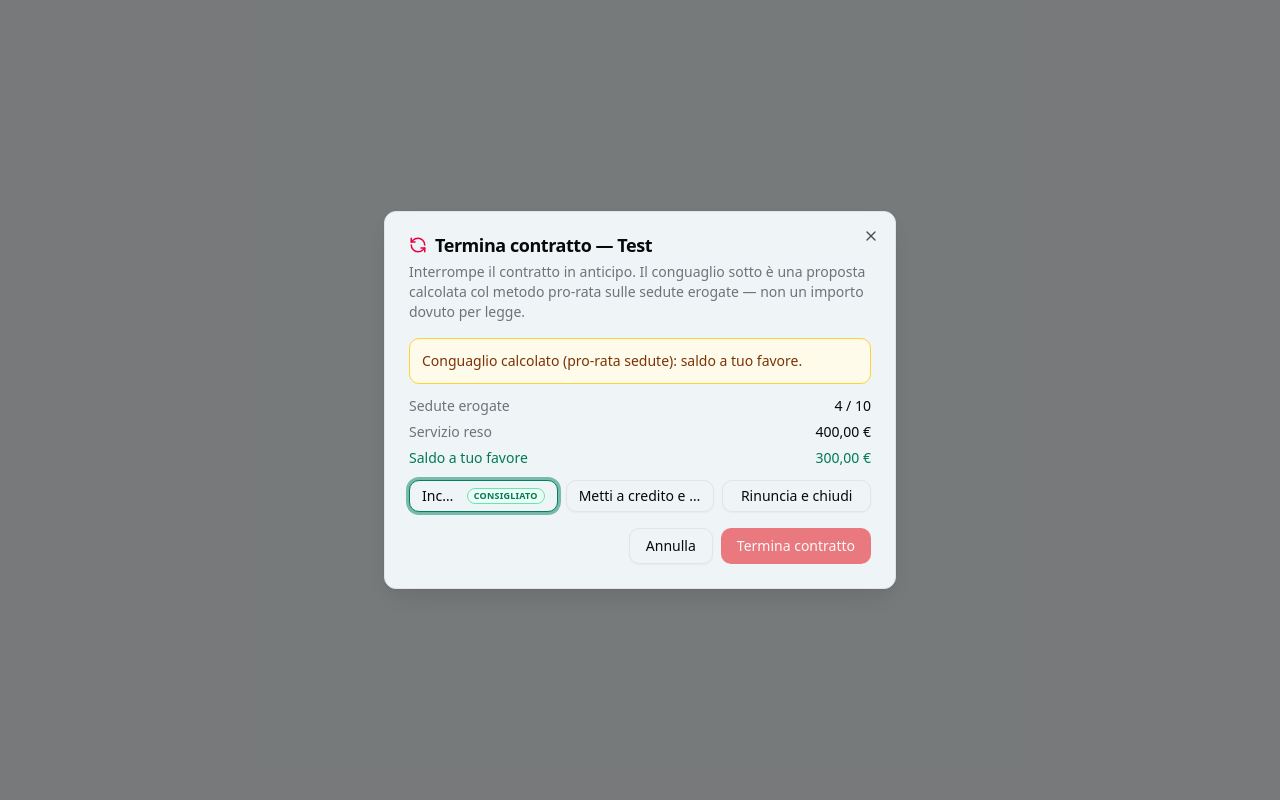
Test: AC-G84-4 — ramo trainer: scelta esplicita, raccomandazione solo visiva › la scelta reale abilita il submit e marca aria-pressed
Click the button "Metti a credito e chiudi" at [640, 496], box top-left (566, 480), bottom-right (714, 512)
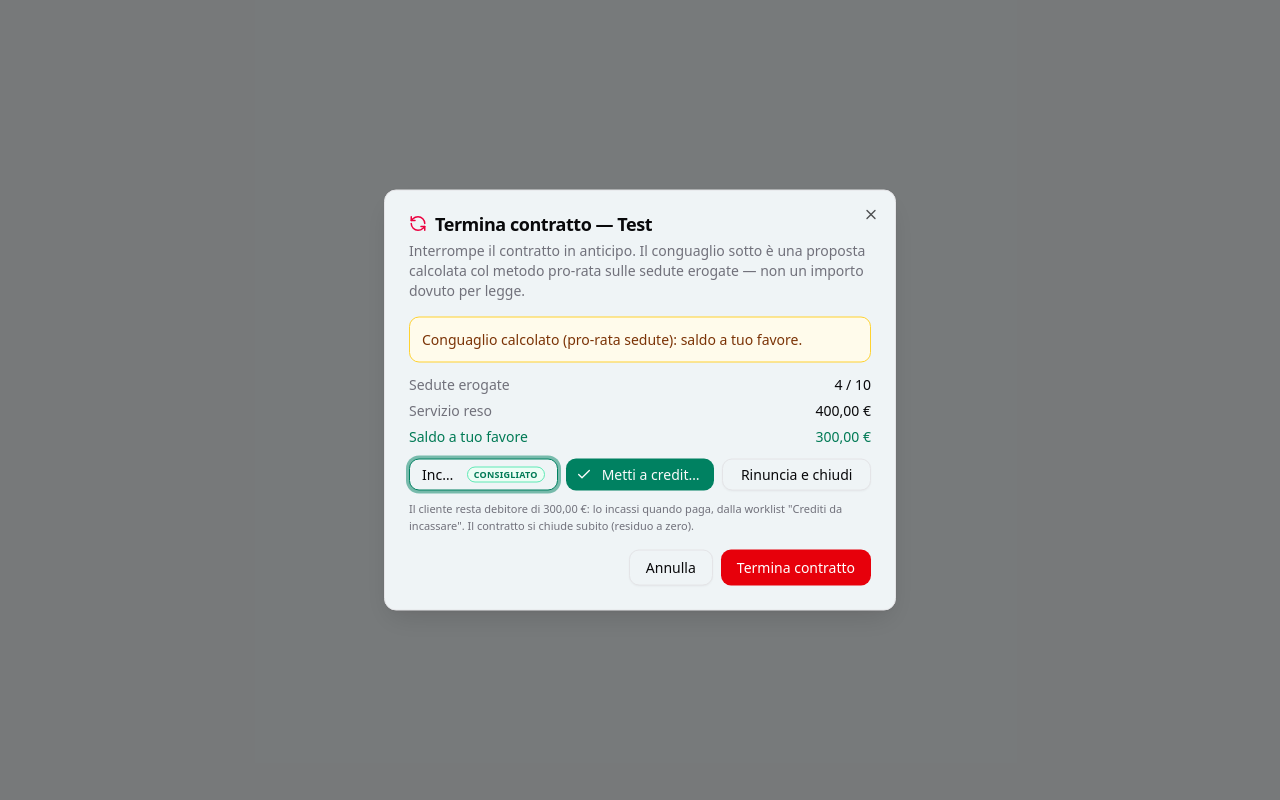
Expected: the button "Termina contratto" is enabled, top-left (721, 550), bottom-right (871, 586)
